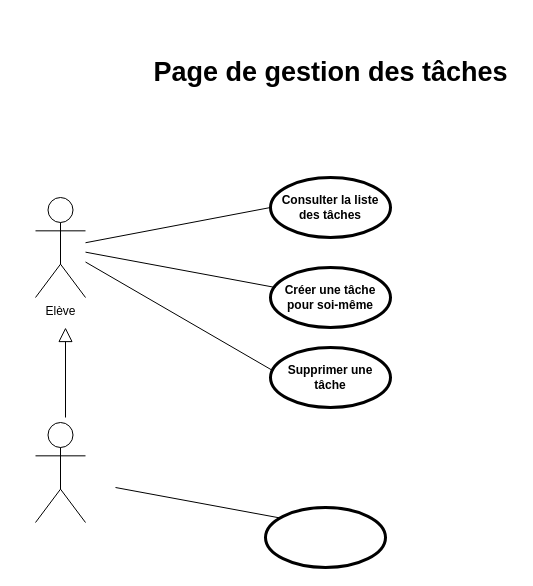
Some shapes in this 533 by 586 pixel diagram are drawn without their labels. Each missing label, with the centre of its shape:
Créer une tâche pour quelqu'un qu'on suit: the point at 325,537
Tuteur bénévole: the point at 60,472
